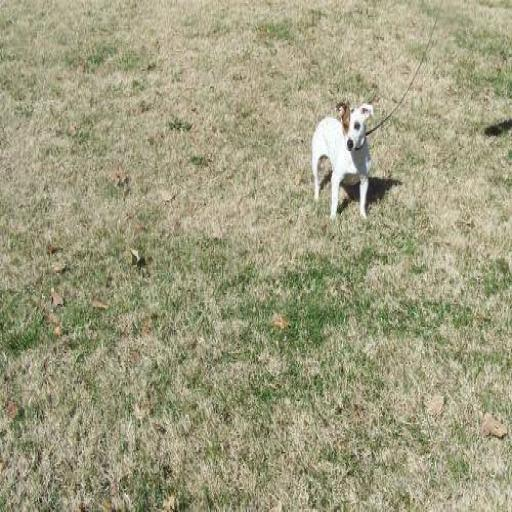Dog: (299, 100, 411, 224)
